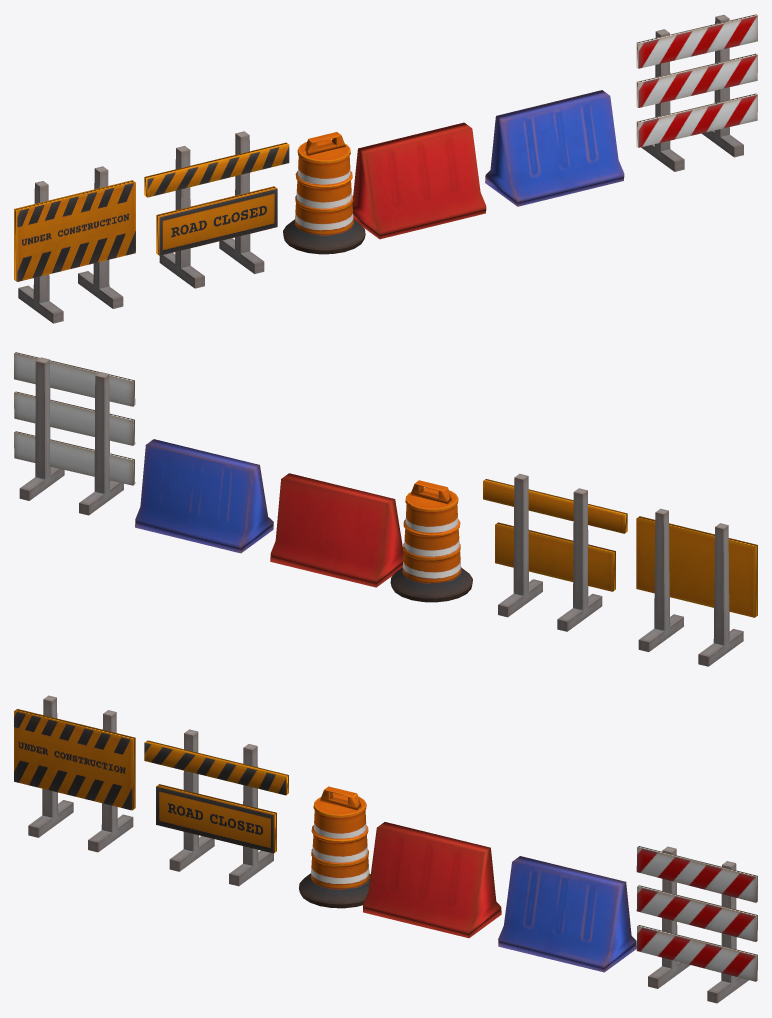
Rendered from props.fbx.
The picture shows the model from 3 angles, top to bottom: view 1: azimuth 30°, elevation 25°; view 2: azimuth 150°, elevation 25°; view 3: azimuth 330°, elevation 25°; orthographic projection.
Visible parts, largest first — view 1: polySurface2251_standardSurface2_0, polySurface2247_standardSurface2_0, polySurface2252_standardSurface2_0, polySurface2249_standardSurface2_0, polySurface2264_standardSurface2_0, polySurface2253_standardSurface2_0, polySurface2261_standardSurface2_0; view 2: polySurface2251_standardSurface2_0, polySurface2249_standardSurface2_0, polySurface2247_standardSurface2_0, polySurface2252_standardSurface2_0, polySurface2264_standardSurface2_0, polySurface2253_standardSurface2_0, polySurface2261_standardSurface2_0; view 3: polySurface2251_standardSurface2_0, polySurface2247_standardSurface2_0, polySurface2252_standardSurface2_0, polySurface2249_standardSurface2_0, polySurface2264_standardSurface2_0, polySurface2253_standardSurface2_0, polySurface2261_standardSurface2_0.
Boxes of the visible parts, left/top/right/bottom form: polySurface2251_standardSurface2_0: left=14, top=166, right=135, bottom=323; polySurface2247_standardSurface2_0: left=485, top=90, right=624, bottom=206; polySurface2252_standardSurface2_0: left=352, top=122, right=486, bottom=239; polySurface2249_standardSurface2_0: left=144, top=131, right=289, bottom=288; polySurface2264_standardSurface2_0: left=636, top=14, right=757, bottom=171; polySurface2253_standardSurface2_0: left=283, top=132, right=365, bottom=254; polySurface2261_standardSurface2_0: left=636, top=14, right=757, bottom=68; polySurface2251_standardSurface2_0: left=636, top=508, right=757, bottom=666; polySurface2249_standardSurface2_0: left=483, top=473, right=627, bottom=631; polySurface2247_standardSurface2_0: left=135, top=439, right=273, bottom=553; polySurface2252_standardSurface2_0: left=270, top=473, right=403, bottom=587; polySurface2264_standardSurface2_0: left=14, top=357, right=135, bottom=515; polySurface2253_standardSurface2_0: left=390, top=480, right=472, bottom=602; polySurface2261_standardSurface2_0: left=14, top=352, right=135, bottom=406; polySurface2251_standardSurface2_0: left=14, top=695, right=135, bottom=852; polySurface2247_standardSurface2_0: left=498, top=856, right=636, bottom=972; polySurface2252_standardSurface2_0: left=363, top=822, right=501, bottom=938; polySurface2249_standardSurface2_0: left=144, top=729, right=288, bottom=886; polySurface2264_standardSurface2_0: left=636, top=846, right=757, bottom=1003; polySurface2253_standardSurface2_0: left=299, top=786, right=370, bottom=908; polySurface2261_standardSurface2_0: left=636, top=846, right=757, bottom=902.
Bounding box in the file's own units: 393 × 64.24 × 38.17.
Materials: 1 (1 with a texture image).
